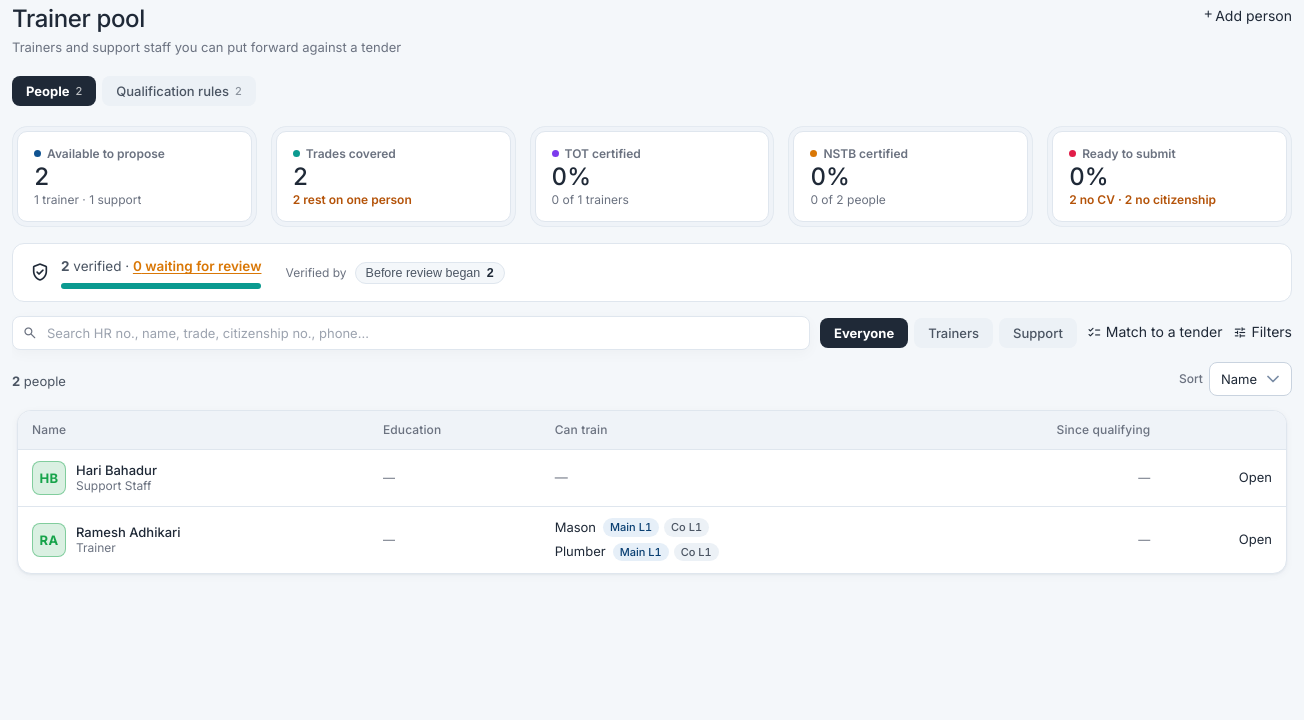
Test case: qualification rules › spell out what each one qualifies somebody to train
Click the tab "Qualification rules 2": (179, 90) [102,76,256,106]
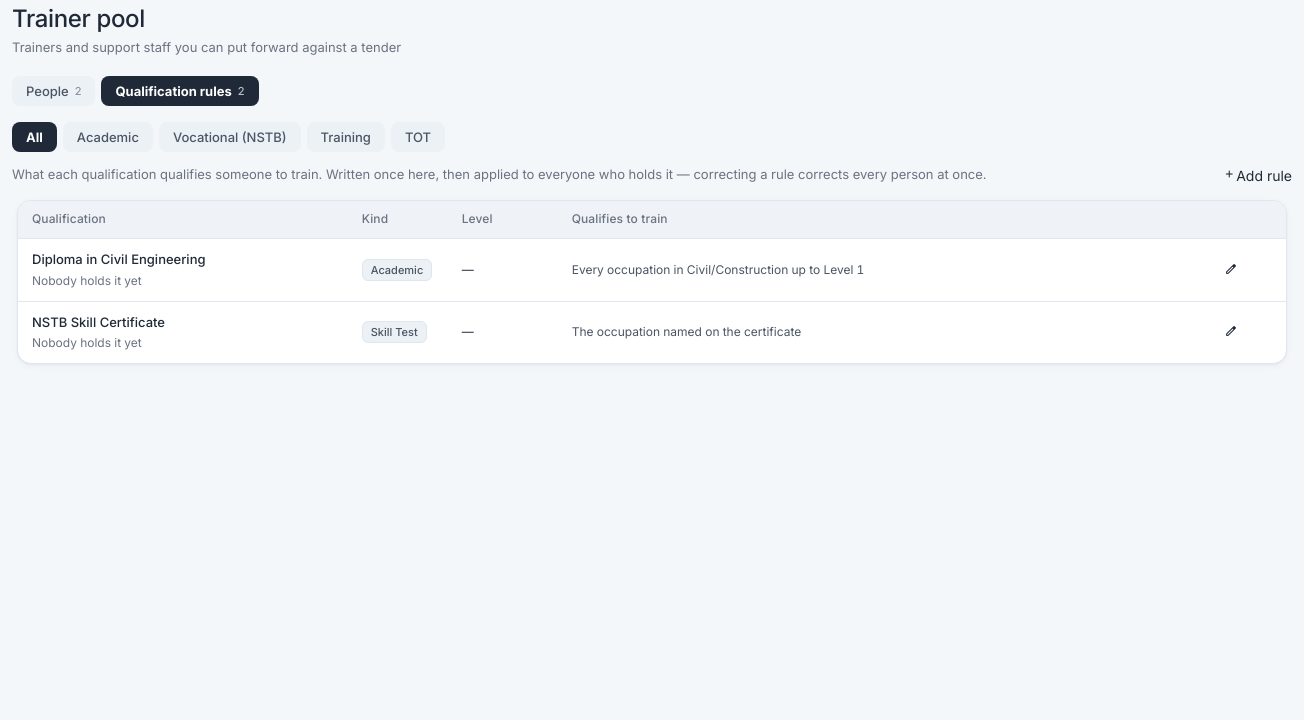
Check: the row that starts with "Diploma in Civil Engineering" shows "Every occupation in Civil/Construction up to Level 1", box [572,262,864,277]
Check: the row that starts with "NSTB Skill Certificate" shows "The occupation named on the certificate", box [572,324,801,339]
